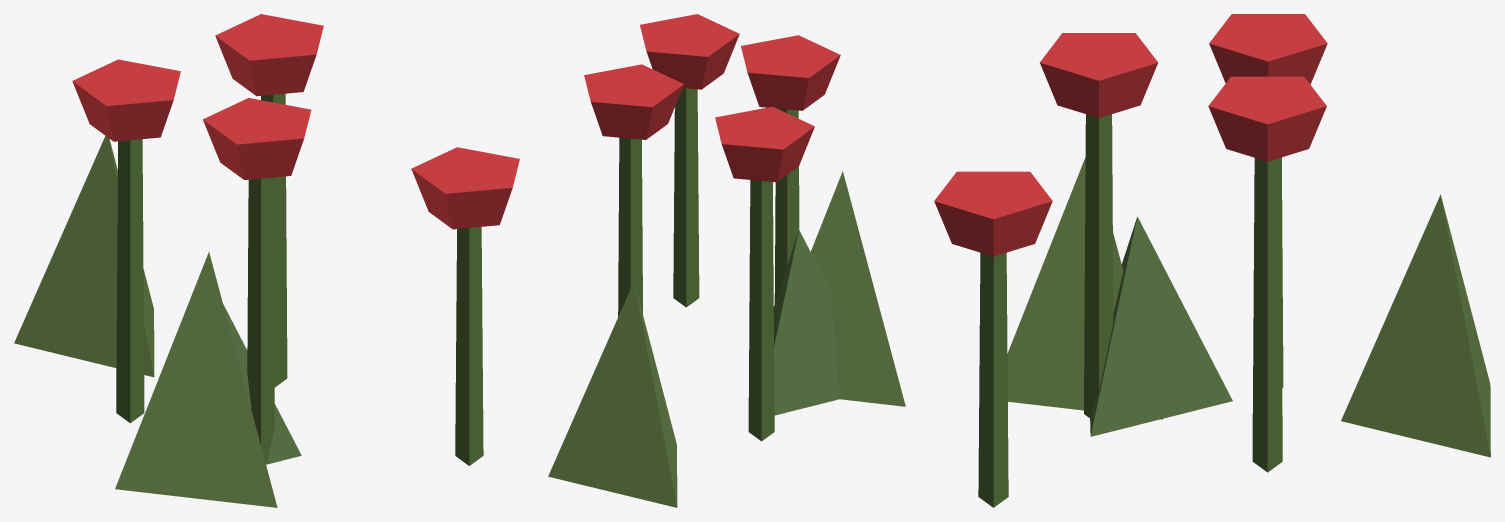
The model's file is rose.obj.
3 views of the same model, side by side, from view 1: azimuth 30°, elevation 25°; view 2: azimuth 150°, elevation 25°; view 3: azimuth 270°, elevation 25° (orthographic). The views are drawn at different scales.
Visible parts, largest first — view 1: rose; view 2: rose; view 3: rose.
Part boxes in pixels (left/top/right/bottom): rose: left=14, top=14, right=519, bottom=507; rose: left=548, top=14, right=905, bottom=507; rose: left=934, top=14, right=1490, bottom=507.
Bounding box in the file's own units: 0.3431 × 0.3247 × 0.4461.
